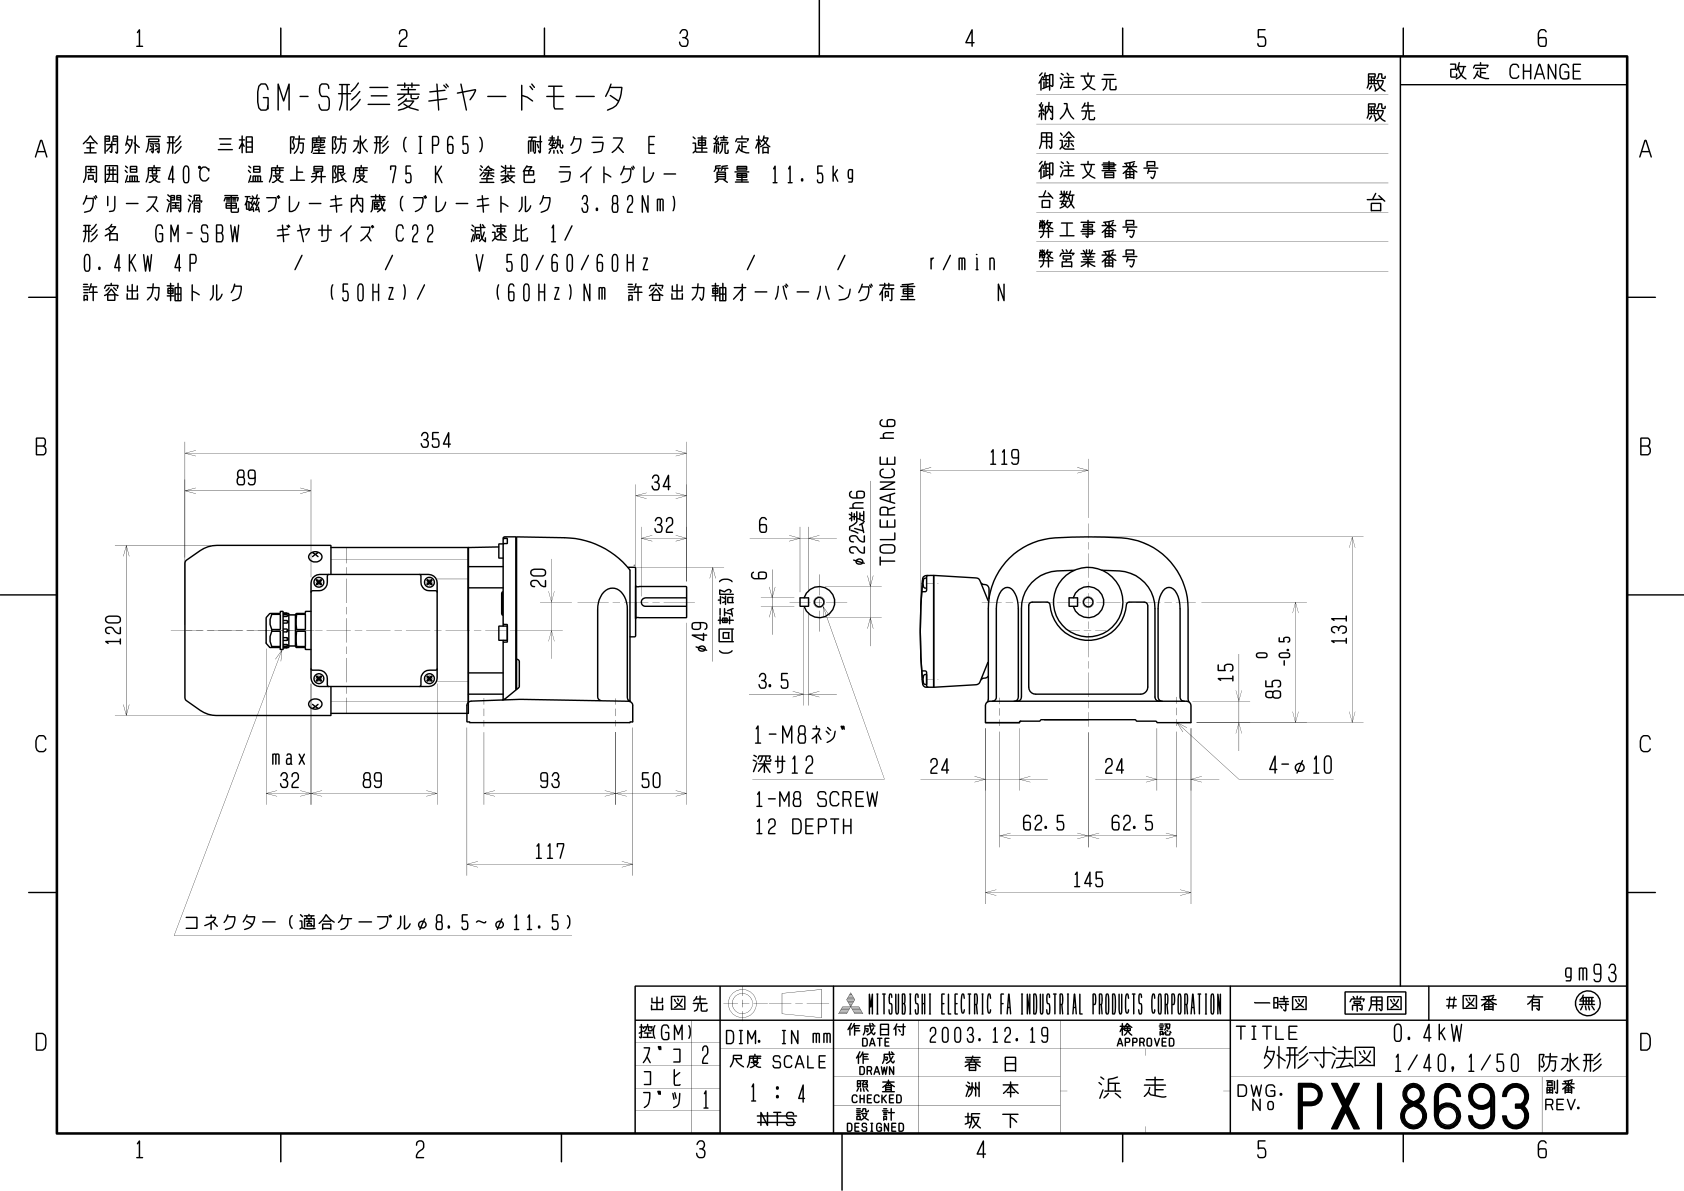GM_S_IP65＿三相_脚: (85, 365, 1377, 963)
